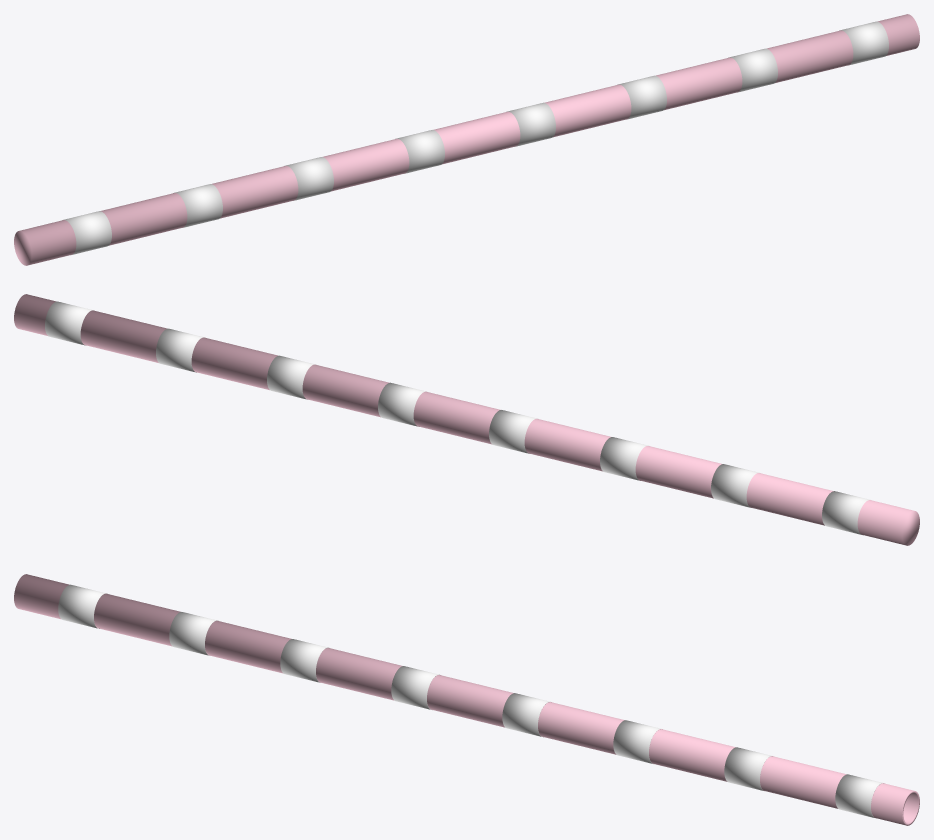
File: straw.glb
3 renders of one model, top to bottom at view 1: azimuth 30°, elevation 25°; view 2: azimuth 150°, elevation 25°; view 3: azimuth 330°, elevation 25°, orthographic.
Visible parts, largest first — view 1: straw, straw_stripe1, straw_stripe0, straw_stripe2, straw_stripe4, straw_stripe5, straw_stripe6, straw_stripe7, straw_stripe3; view 2: straw, straw_stripe1, straw_stripe0, straw_stripe2, straw_stripe4, straw_stripe5, straw_stripe6, straw_stripe7, straw_stripe3; view 3: straw, straw_stripe5, straw_stripe6, straw_stripe7, straw_stripe4, straw_stripe0, straw_stripe1, straw_stripe2, straw_stripe3.
Part boxes in pixels (x1,y1,x2,y2): straw: (14, 14, 919, 265); straw_stripe1: (173, 184, 222, 227); straw_stripe0: (62, 211, 111, 255); straw_stripe2: (285, 157, 333, 200); straw_stripe4: (506, 102, 555, 146); straw_stripe5: (617, 75, 666, 119); straw_stripe6: (728, 48, 777, 92); straw_stripe7: (839, 21, 888, 65); straw_stripe3: (395, 130, 444, 173); straw: (14, 294, 919, 545); straw_stripe1: (711, 464, 760, 507); straw_stripe0: (822, 491, 871, 535); straw_stripe2: (600, 437, 648, 480); straw_stripe4: (378, 382, 427, 426); straw_stripe5: (267, 355, 316, 399); straw_stripe6: (156, 328, 205, 372); straw_stripe7: (45, 301, 94, 345); straw_stripe3: (489, 410, 538, 453); straw: (14, 574, 919, 825); straw_stripe5: (613, 720, 662, 764); straw_stripe6: (724, 747, 773, 791); straw_stripe7: (835, 774, 884, 818); straw_stripe4: (502, 693, 551, 737); straw_stripe0: (58, 584, 107, 628); straw_stripe1: (169, 612, 218, 655); straw_stripe2: (280, 639, 329, 682); straw_stripe3: (391, 666, 439, 709).
Size of the model in its own units: 0.2 by 0.0071 by 0.0071.
